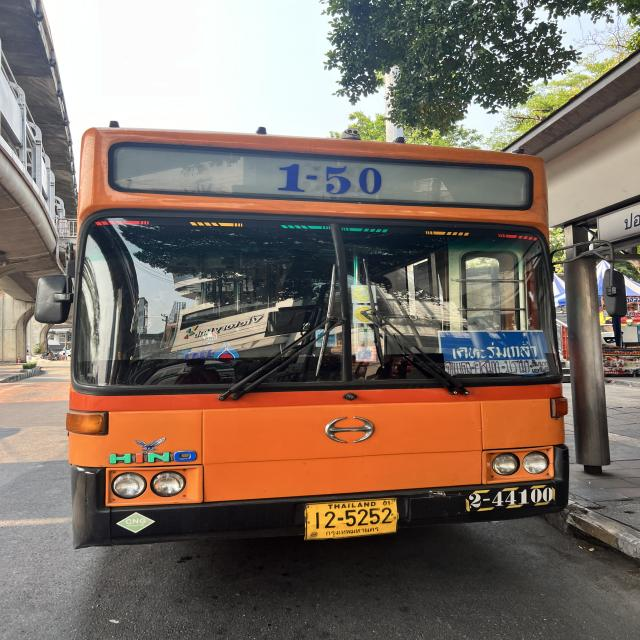BMTA-bus: (63, 125, 571, 552)
Bus-Line-Number: (268, 157, 392, 204)
Destination-Sign-Normal: (438, 327, 549, 376)
